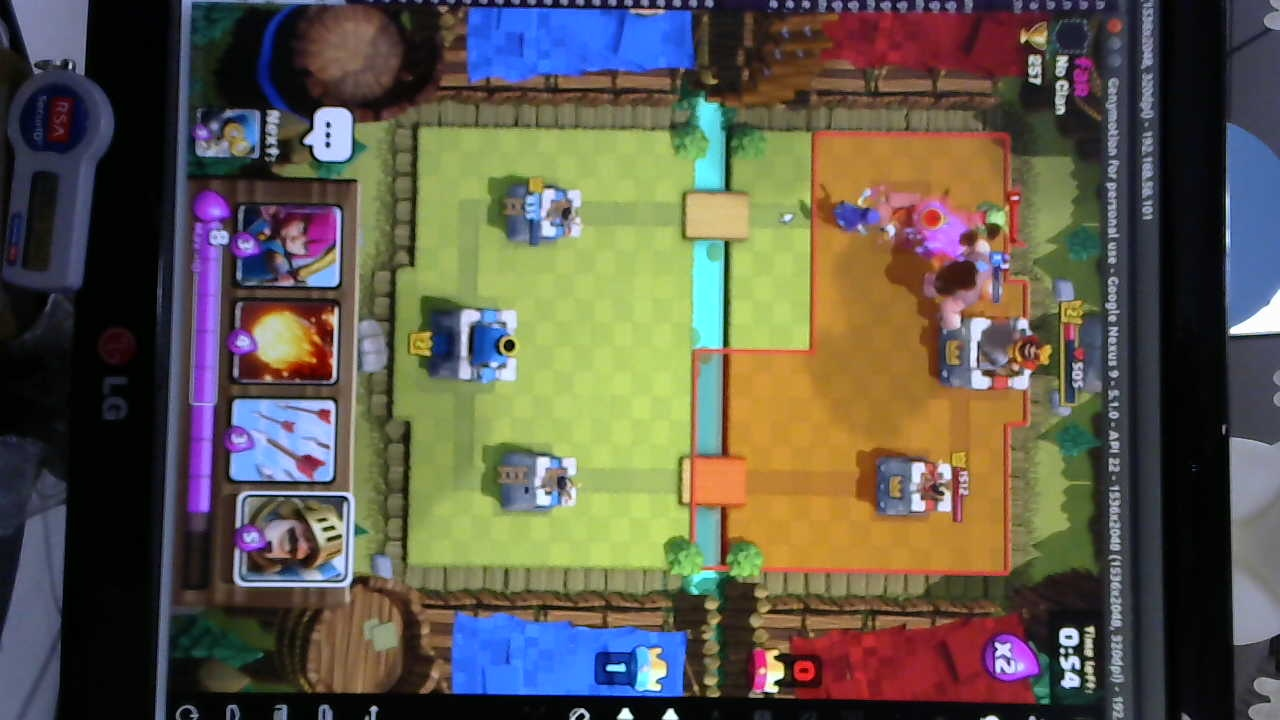arena: (496, 446, 583, 517), (503, 180, 584, 243)
dragon: (958, 199, 1012, 242)
earena: (867, 453, 952, 525)
eking: (940, 308, 1047, 393)
giant: (933, 244, 995, 335)
king: (425, 303, 522, 393)
witch: (829, 196, 892, 233)
